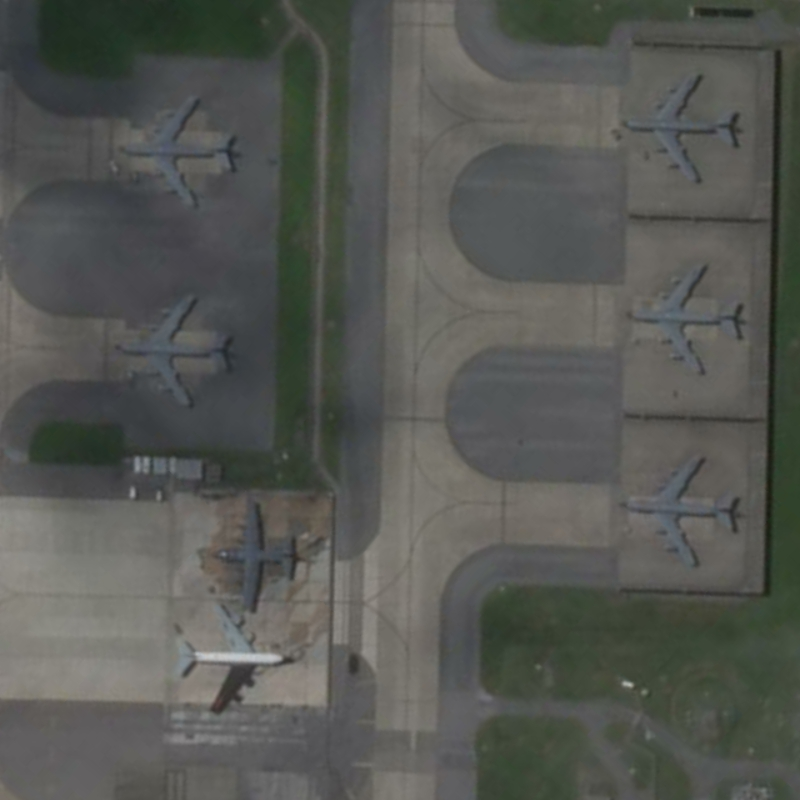A11: (169, 596, 300, 716)
A14: (618, 253, 751, 380), (614, 449, 743, 574), (109, 289, 239, 412), (109, 92, 241, 212), (619, 69, 747, 191)
A2: (210, 491, 304, 615)
